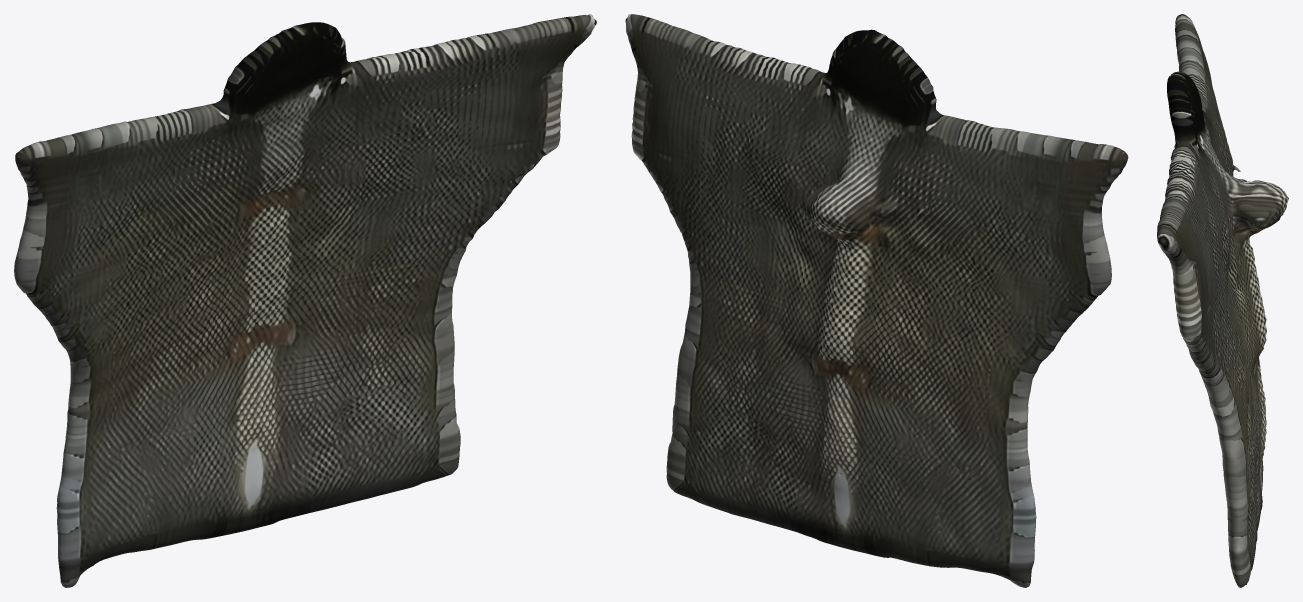
File: kfl-2281.glb
3 views of the same model, side by side, from view 1: azimuth 30°, elevation 25°; view 2: azimuth 150°, elevation 25°; view 3: azimuth 270°, elevation 25° (orthographic). The views are drawn at different scales.
Parts seen in each view (by area): view 1: kfl-2281; view 2: kfl-2281; view 3: kfl-2281.
Part boxes in pixels (x1,y1,x2,y2): kfl-2281: (14,14,596,587); kfl-2281: (625,14,1128,587); kfl-2281: (1157,14,1288,587).
Size of the model in its own units: 0.9853 by 0.8962 by 0.2376.
Materials: 1 (1 with a texture image).
